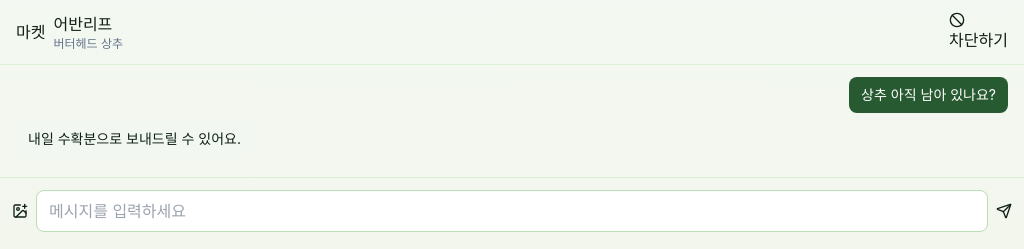
Scenario: ChatConversationPanel › 차단하면 입력창이 잠긴다
Expected: the text "상추 아직 남아 있나요?" is shown, [861,86,996,103]
Click the button "차단하기". click: [979, 32]
box: [949,12,1008,52]
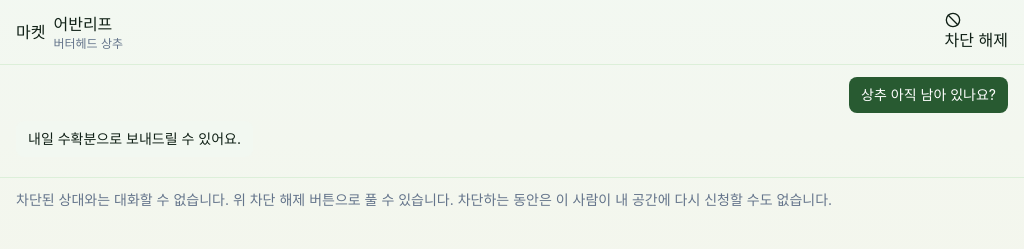
Result: the text "차단된 상대와는 대화할 수 없습니다" is shown at [16,191,832,208]
